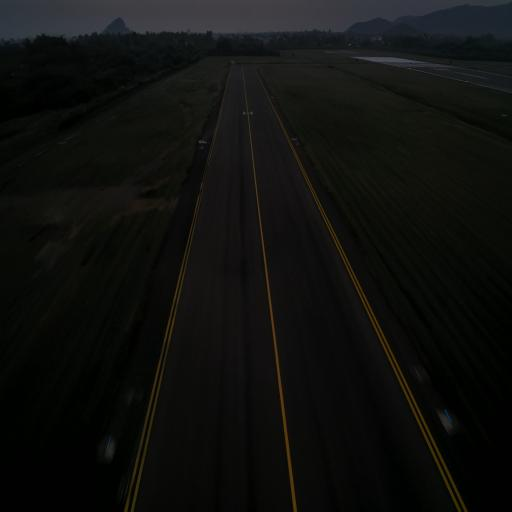on: (443, 403, 454, 427), (105, 434, 114, 458), (296, 138, 301, 147), (200, 142, 204, 148)
